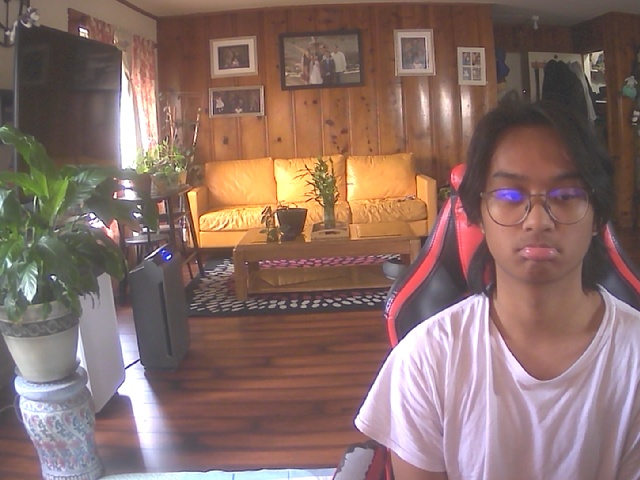sad: (478, 107, 605, 285)
